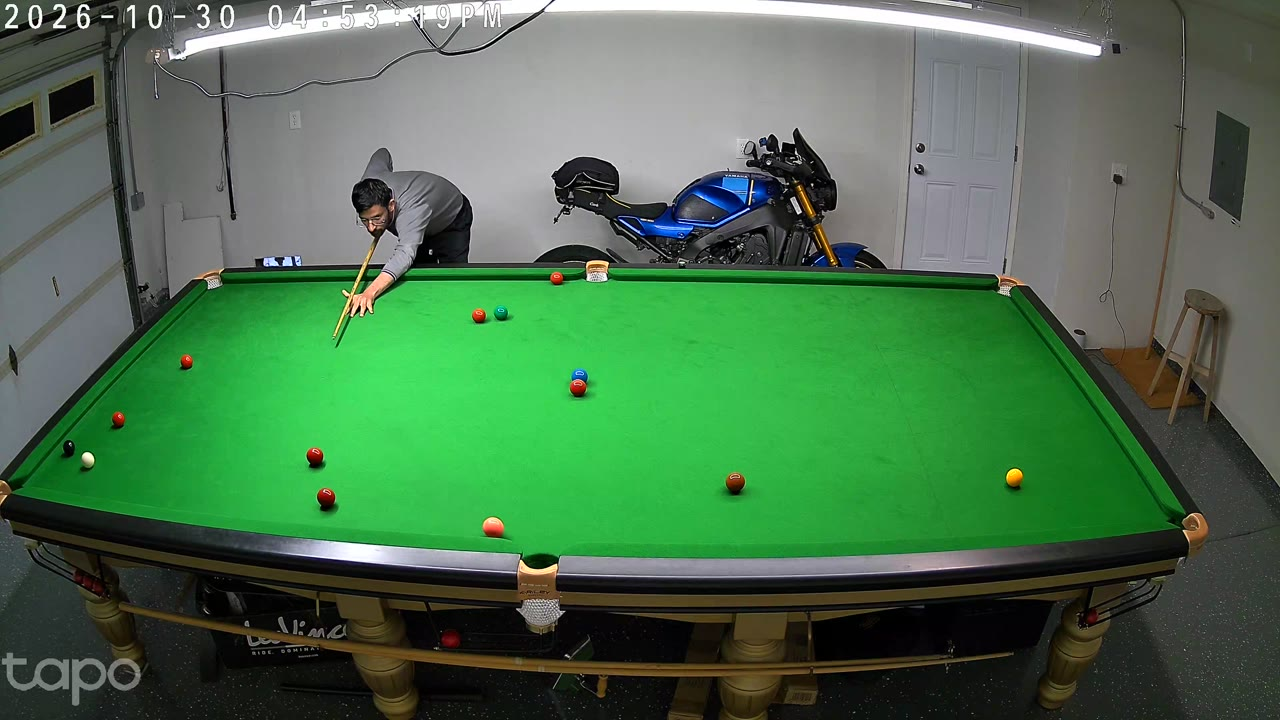black: (63, 438, 75, 459)
brown: (726, 471, 745, 497)
green: (495, 304, 507, 322)
pink: (482, 515, 505, 545)
red: (317, 486, 335, 512), (307, 446, 323, 469), (570, 378, 586, 399), (112, 410, 125, 430), (473, 307, 485, 326), (181, 353, 193, 371), (551, 271, 562, 288)
white: (81, 450, 95, 471)
yellow: (1006, 467, 1022, 489)
